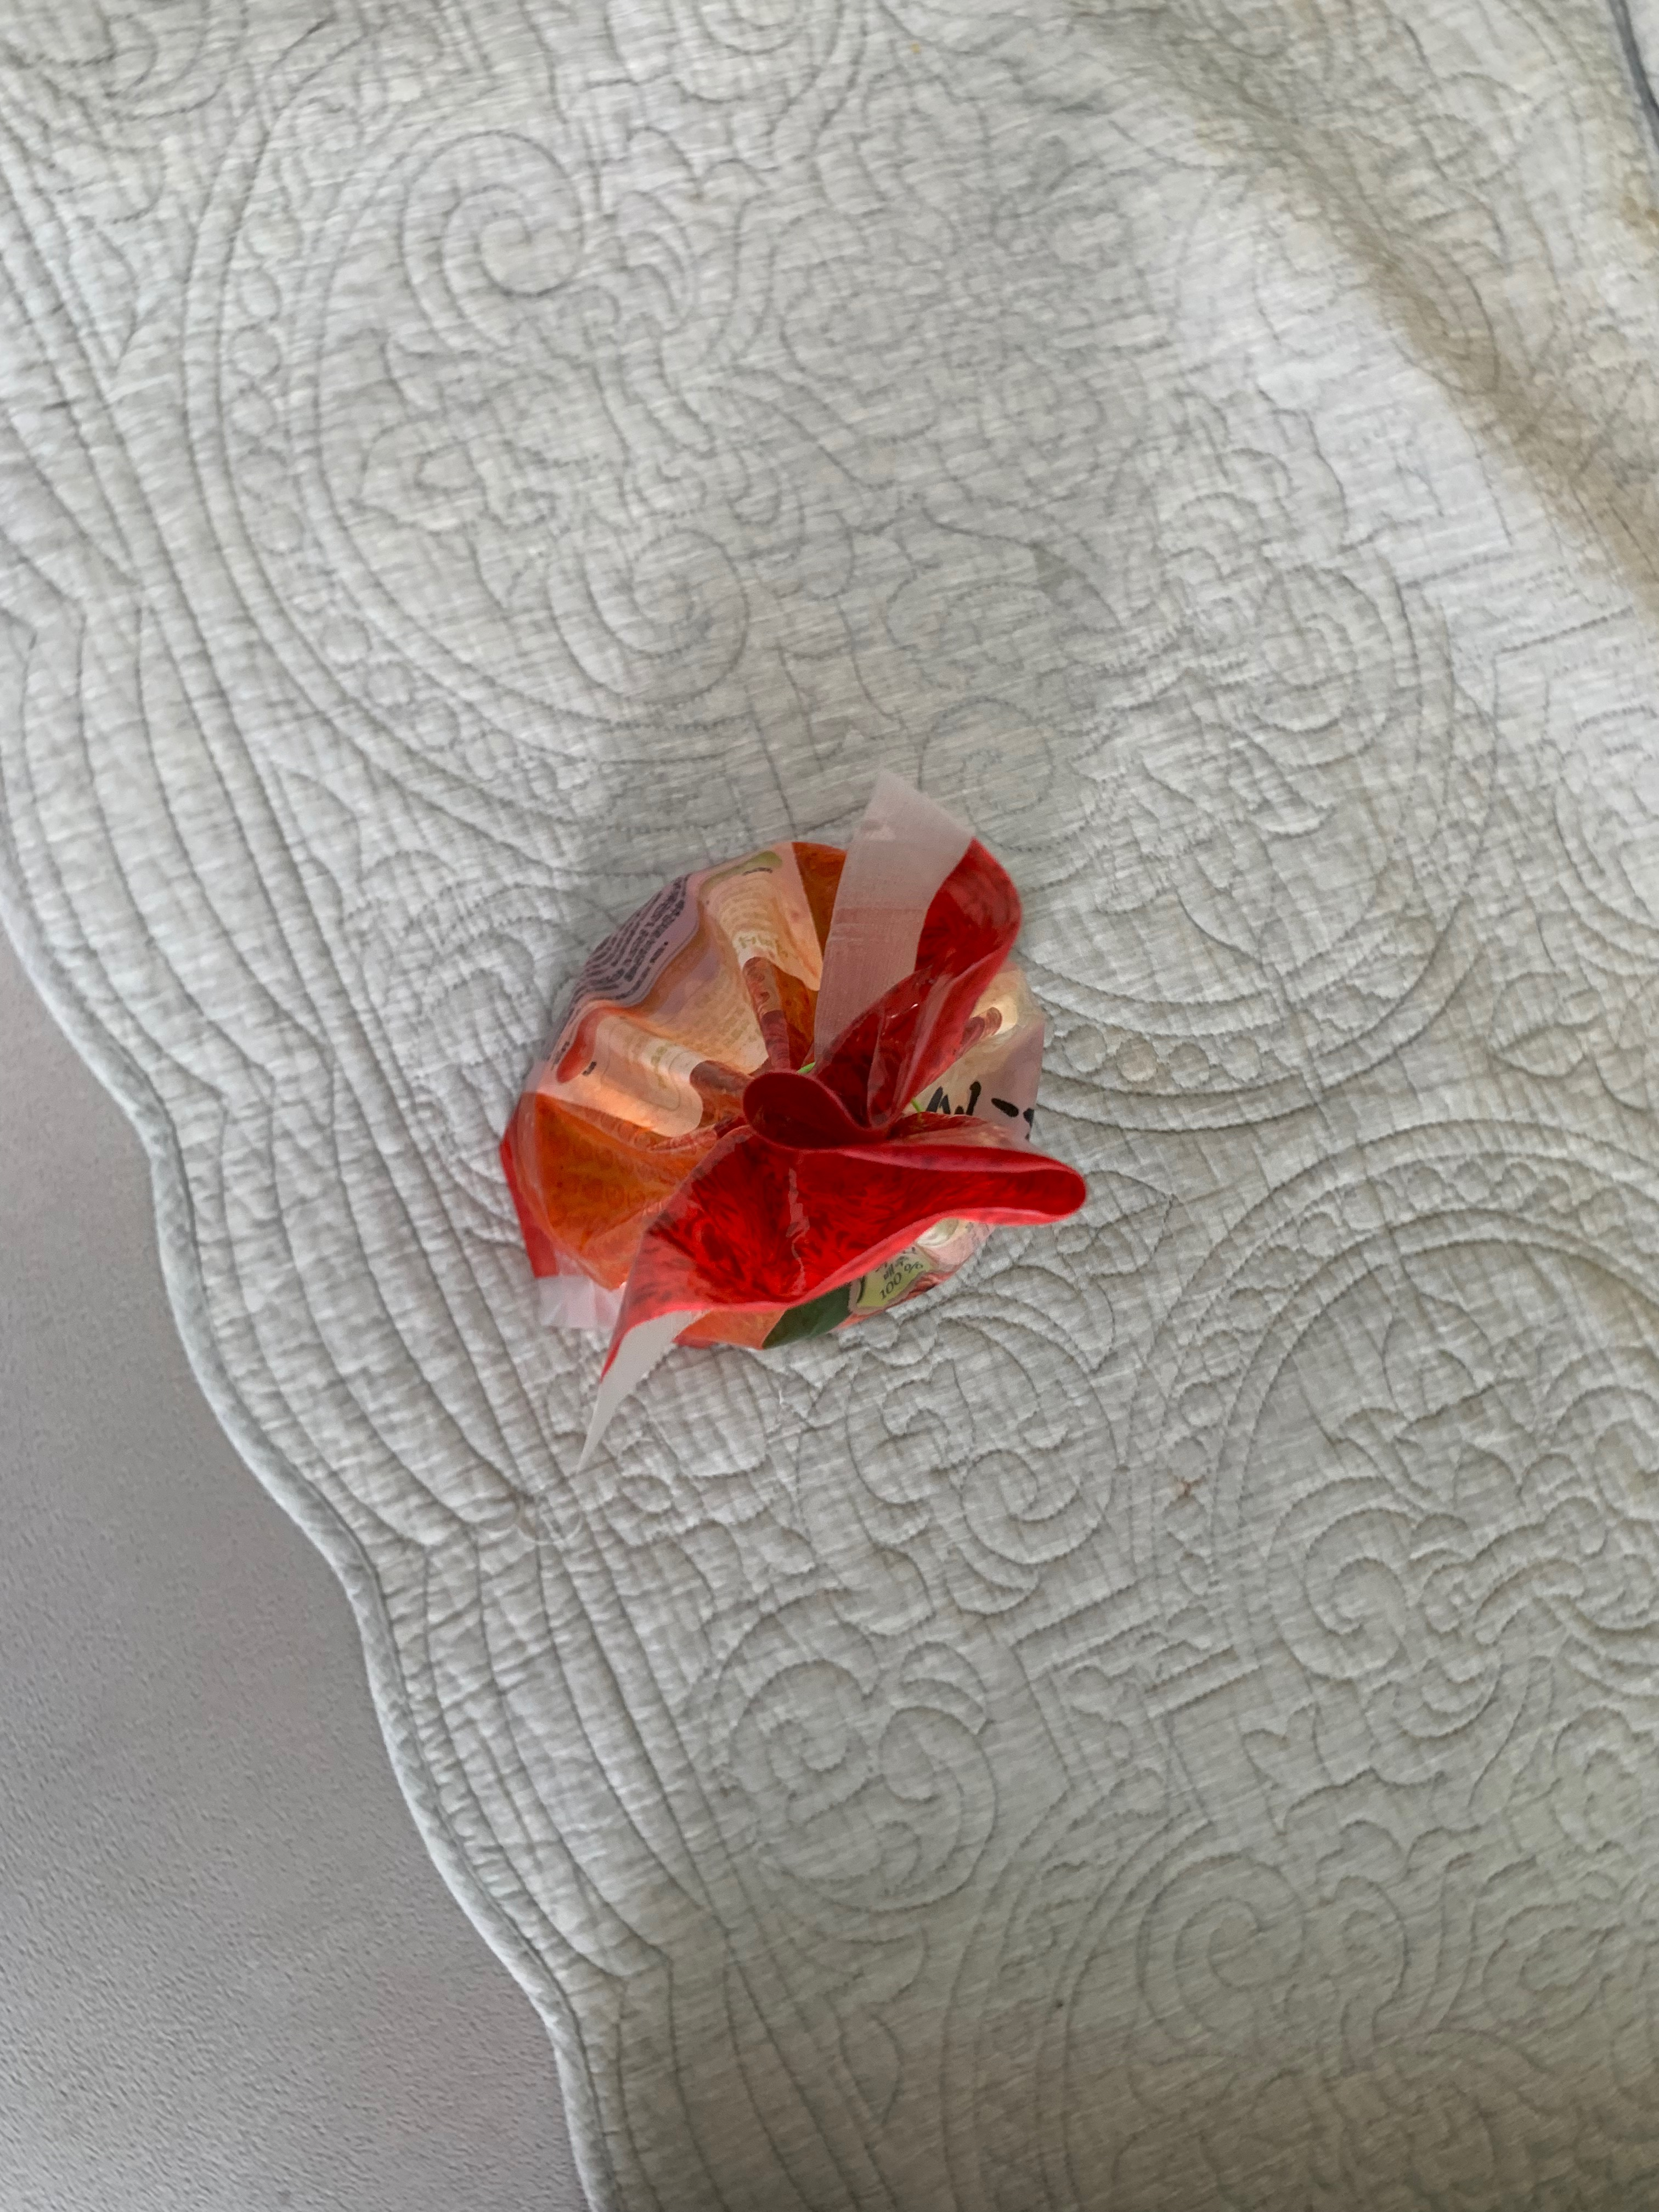kimchi: (498, 840, 1079, 1360)
